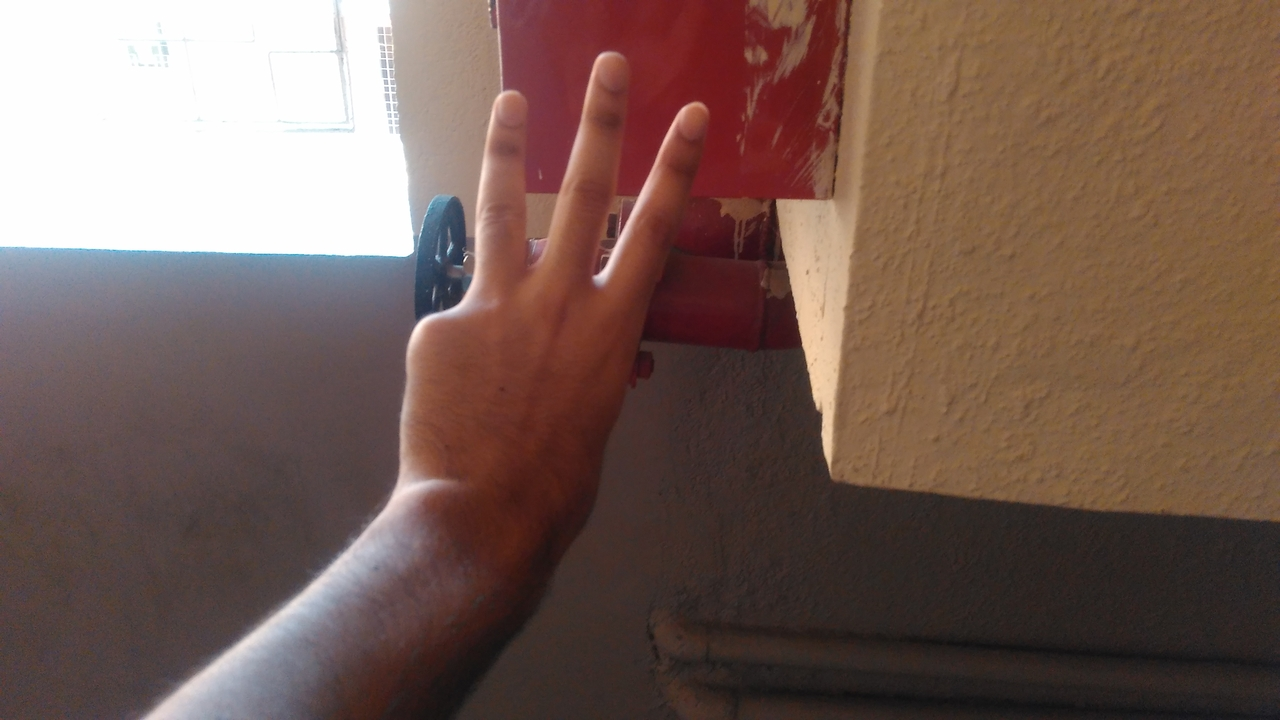fingertip: (660, 94, 718, 148), (582, 46, 636, 96), (478, 82, 532, 128)
